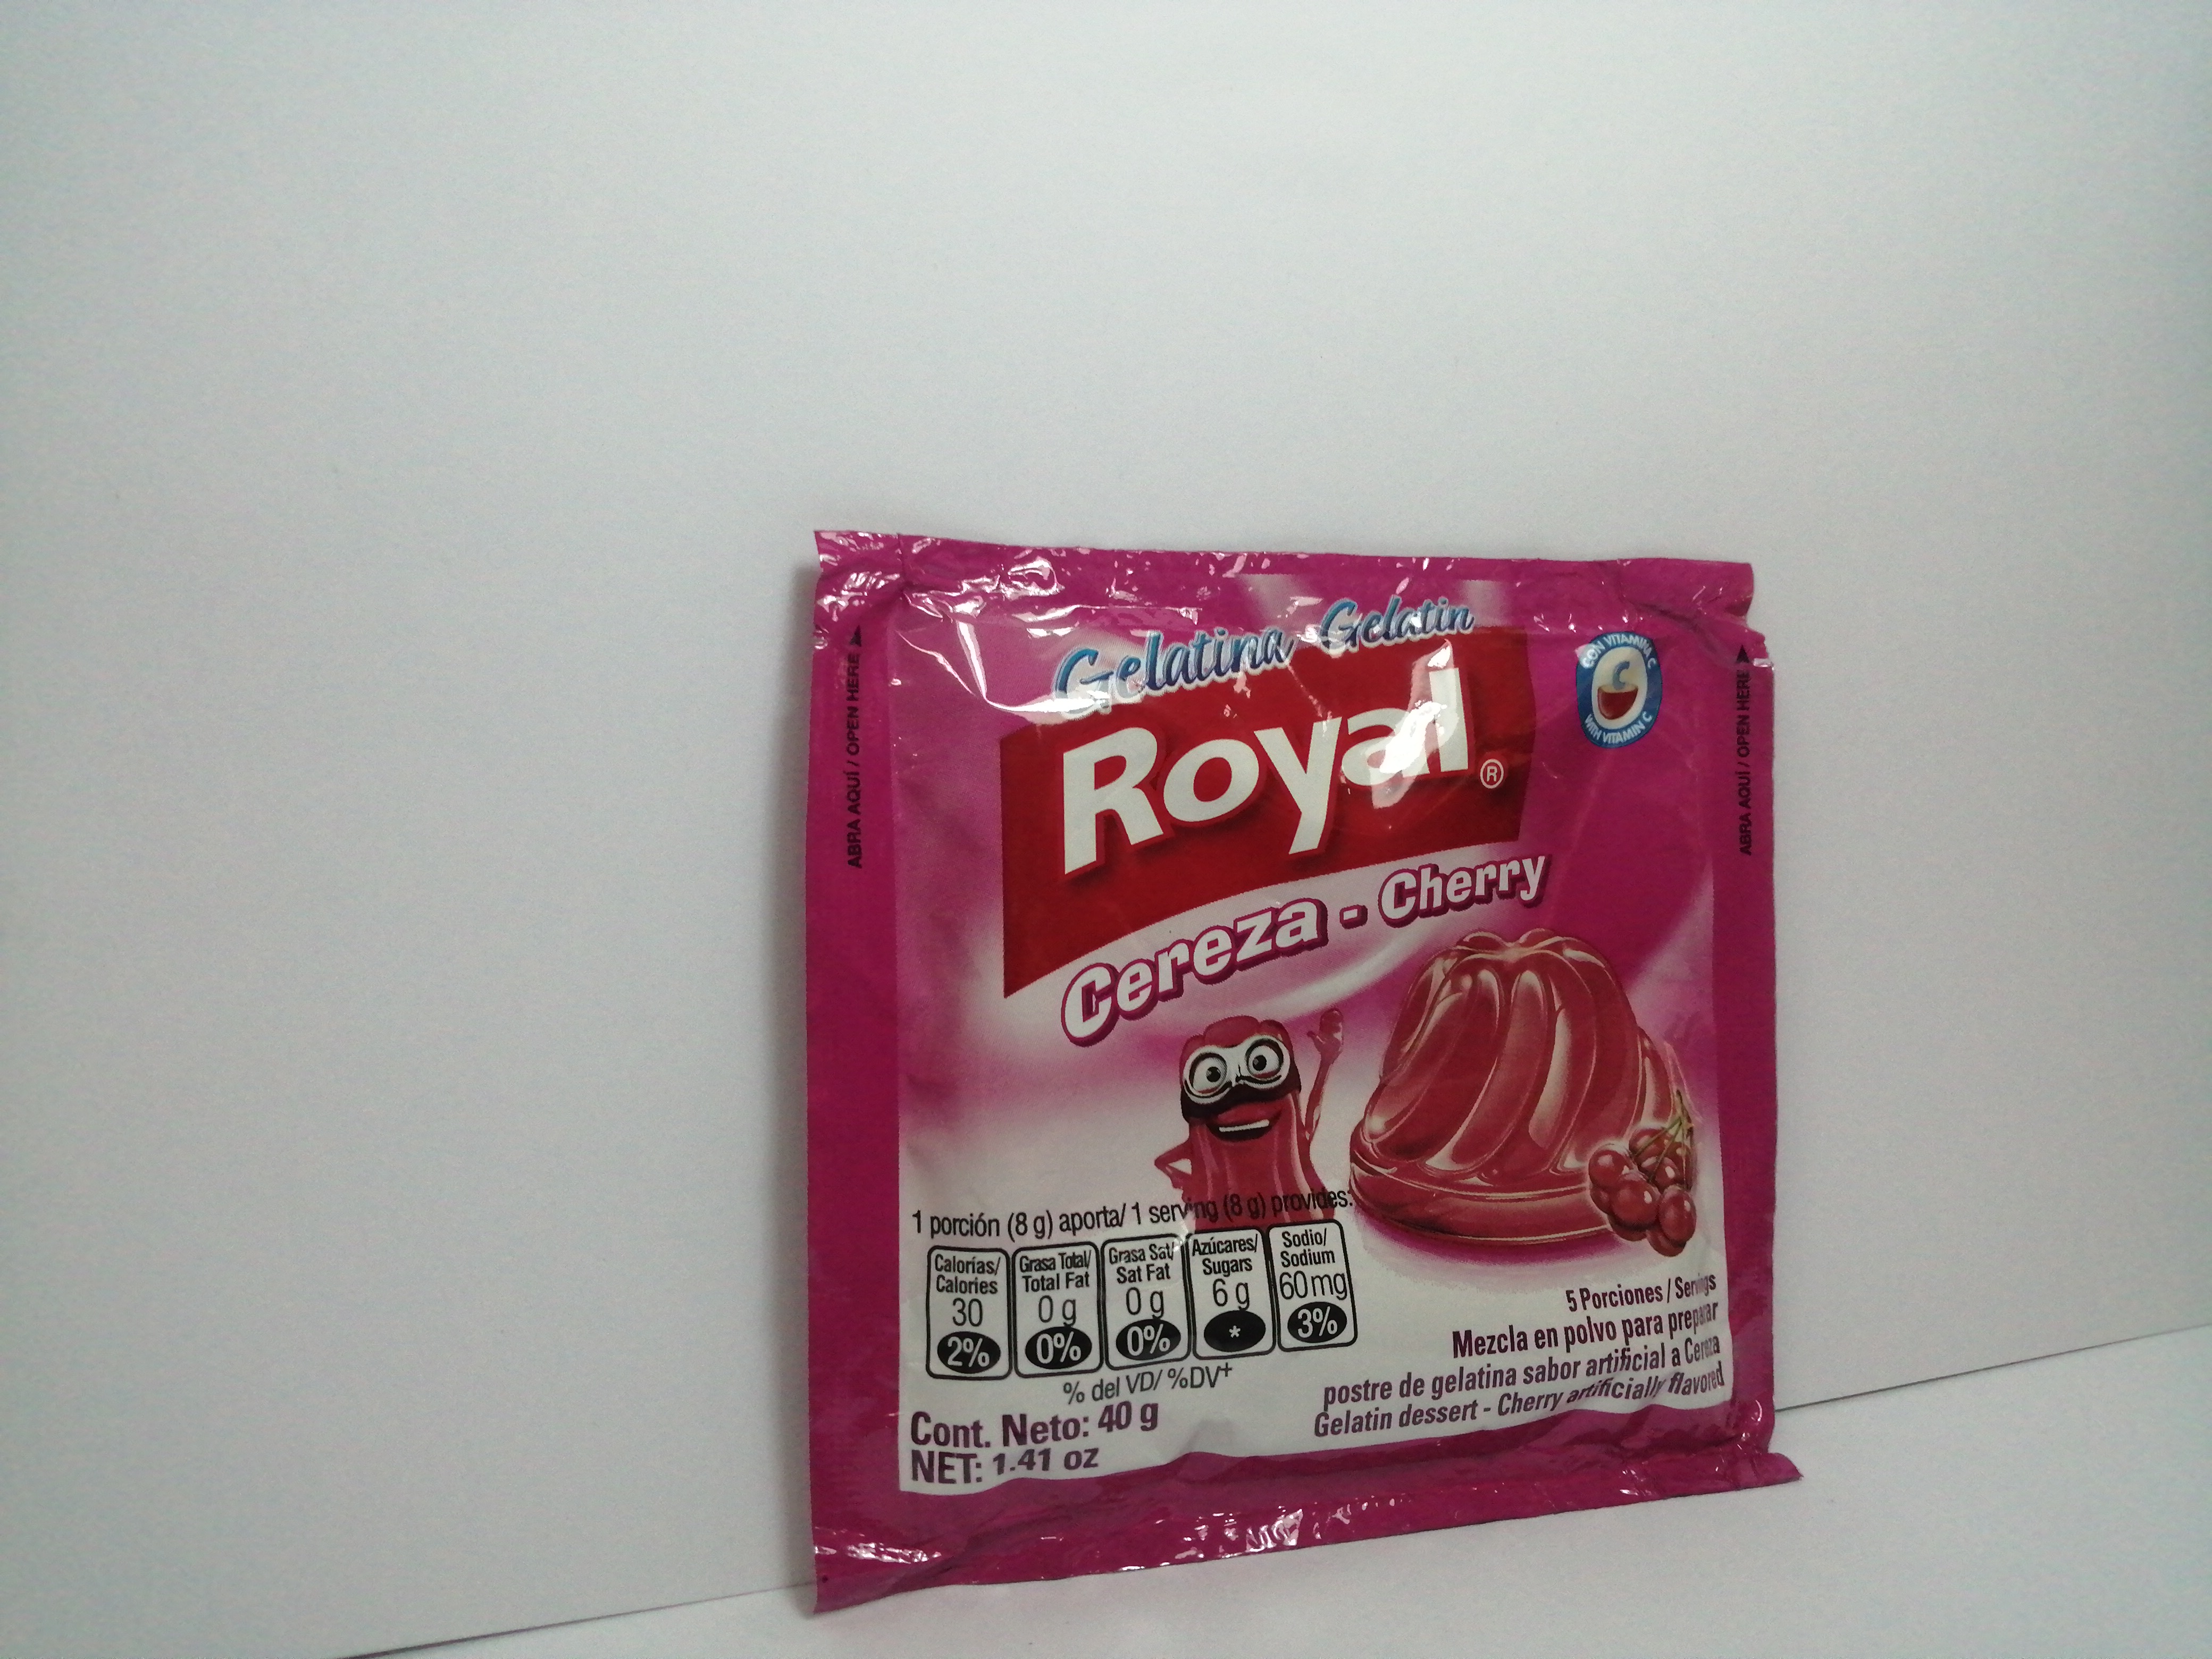gelatina: (803, 505, 1799, 1595)
